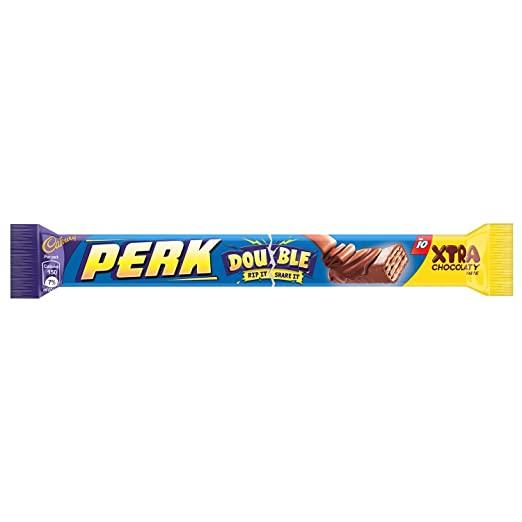Perk: (9, 215, 515, 302)
